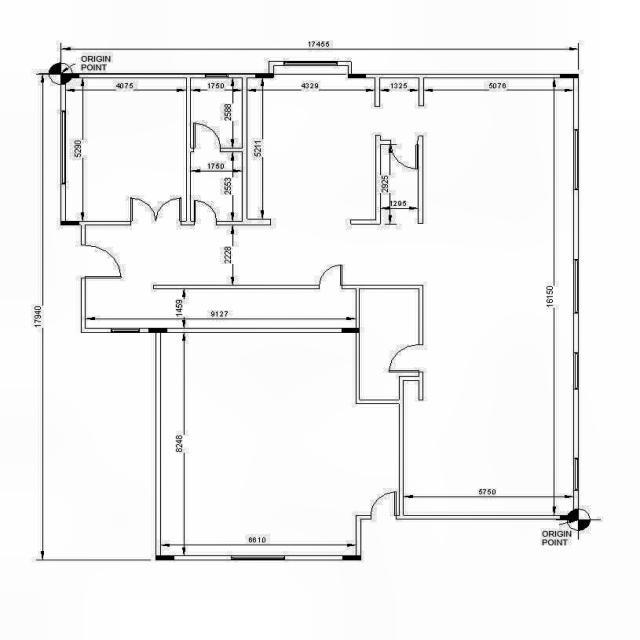Column: (60, 220, 80, 226), (148, 328, 168, 333), (560, 515, 579, 520), (255, 73, 274, 78), (342, 328, 359, 333), (60, 74, 80, 78), (342, 556, 362, 560), (560, 74, 579, 78), (156, 556, 174, 560), (348, 74, 366, 78)
Door: (81, 244, 122, 278), (388, 344, 424, 372), (190, 122, 221, 152), (391, 140, 418, 170), (190, 200, 217, 226), (371, 492, 396, 520), (318, 264, 342, 290)
Double-Door: (130, 198, 182, 225)
Window: (60, 110, 66, 184), (573, 129, 579, 190), (573, 259, 579, 314), (283, 61, 338, 66), (573, 352, 579, 390), (231, 556, 285, 560), (573, 458, 579, 491), (111, 328, 140, 333), (204, 73, 228, 78)
